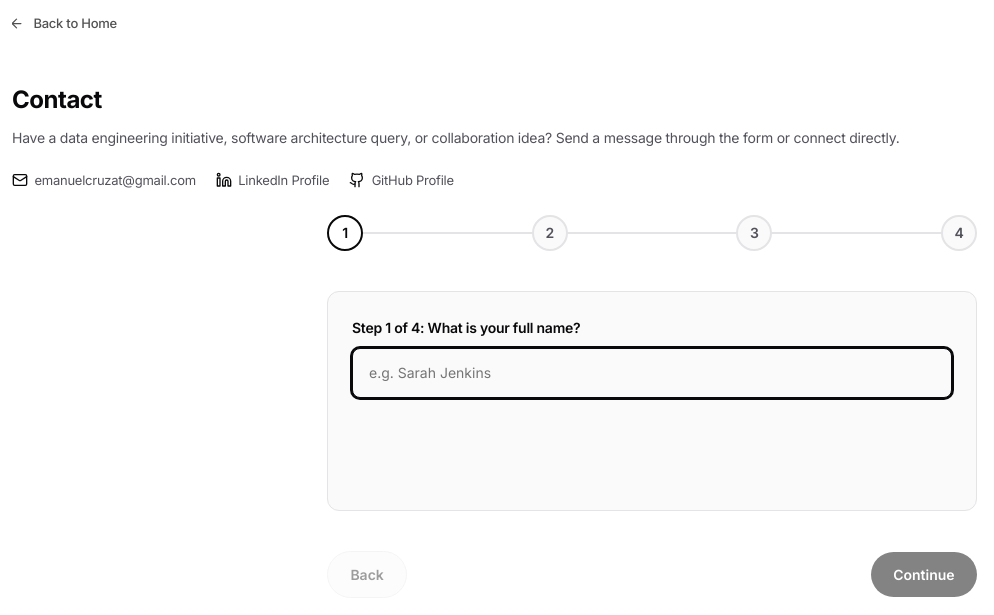
Test: Contact Page & Stepper Delivery (Phase 7 & 8) › validates required name before allowing step 1 progression
expect the button "Continue" is disabled: met, box [871,552,977,597]
Type "Alex" into the field labelled "Step 1 of 4: What is your full name?".
click(652, 373); type("Alex")  # box [352,348,952,398]
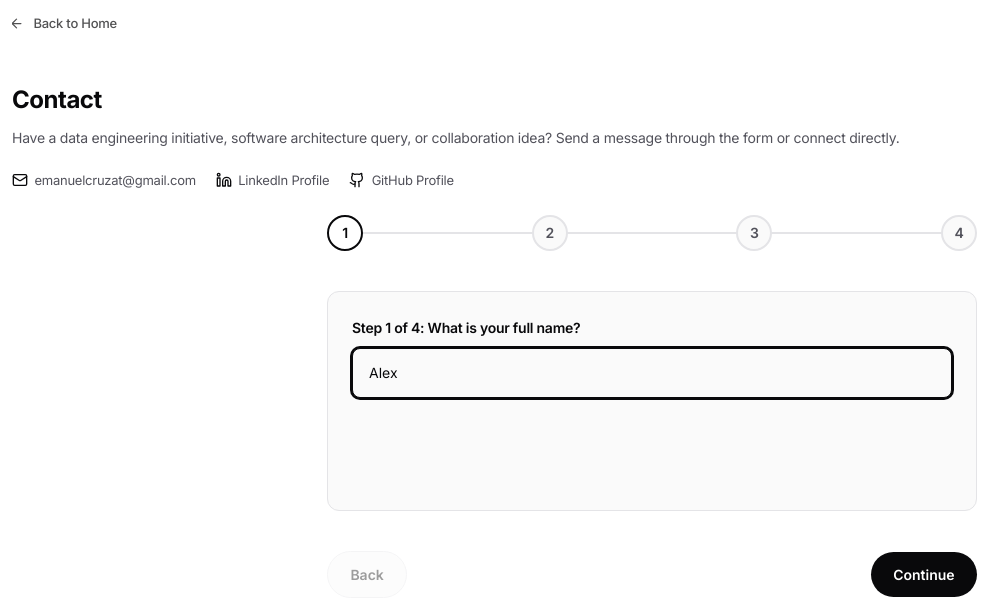
expect the button "Continue" is enabled: met
Click the button "Continue".
click(924, 575)  # box [871,552,977,597]
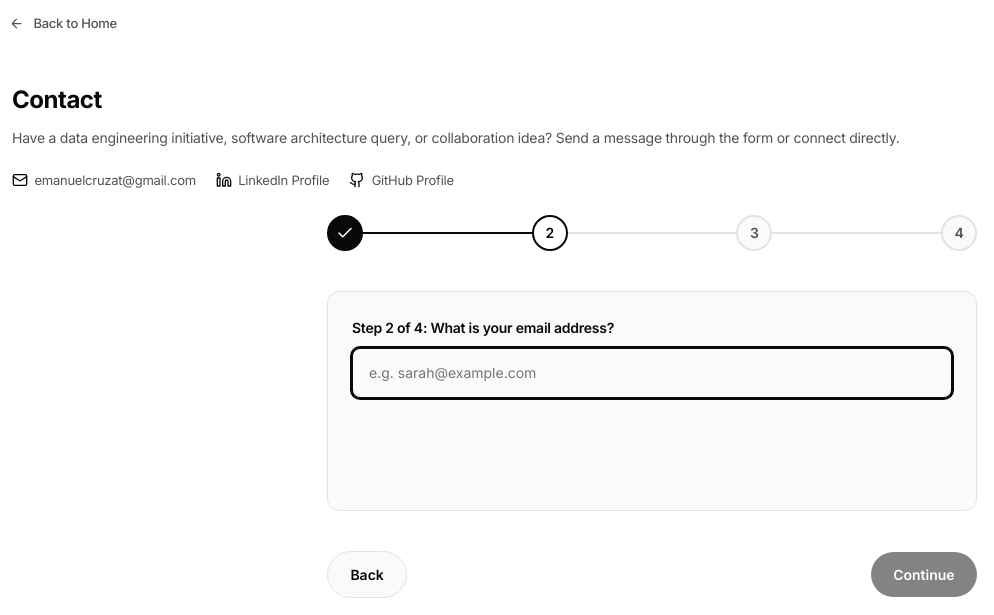
expect the field labelled "Step 2 of 4: What is your email address?" is shown: met, box [352,348,952,398]
